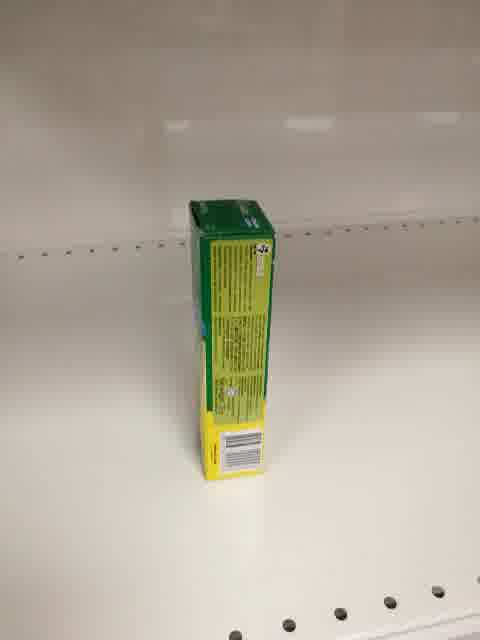toothpaste: (189, 200, 275, 480)
